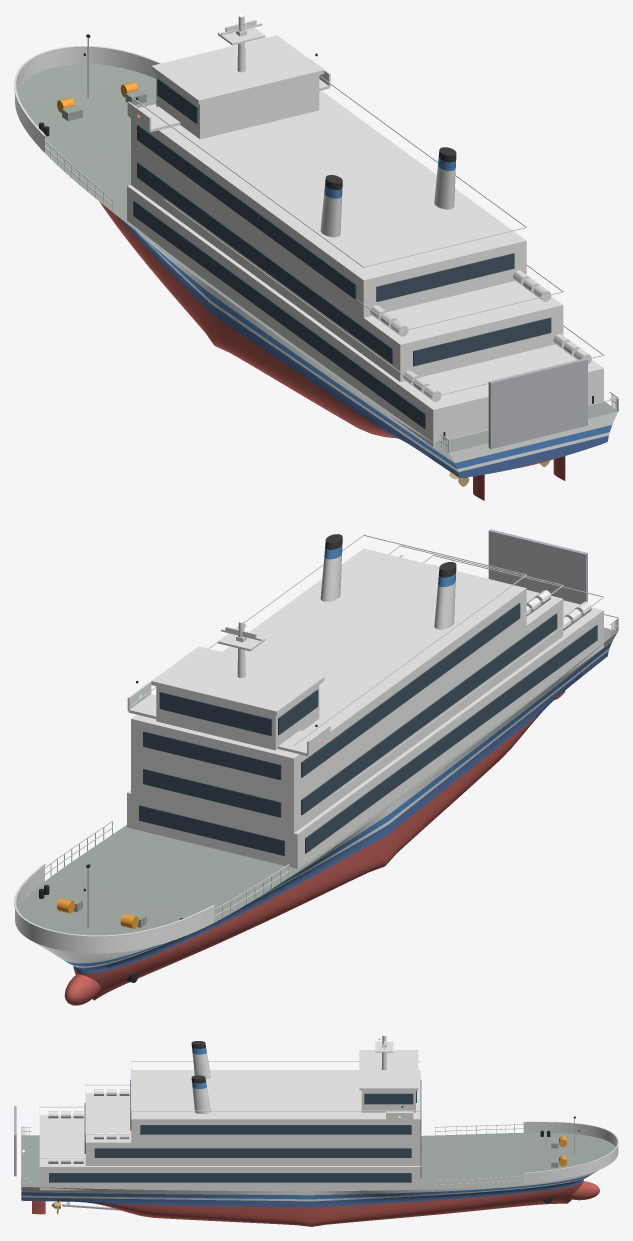
File: ferry_seto.glb
3 views of the same model, one above another, from view 1: azimuth 30°, elevation 25°; view 2: azimuth 150°, elevation 25°; view 3: azimuth 270°, elevation 25° (orthographic). The views are drawn at different scales.
Parts seen in each view (by area): view 1: superstructure, hull, deck_fittings; view 2: superstructure, hull, deck_fittings, hull_appendages; view 3: superstructure, hull, deck_fittings, hull_appendages.
Part boxes in pixels (<box>): superstructure: <box>83,15,604,449</box>; hull: <box>17,64,618,477</box>; deck_fittings: <box>14,46,618,452</box>; superstructure: <box>83,529,603,927</box>; hull: <box>18,627,617,1000</box>; deck_fittings: <box>14,614,618,953</box>; hull_appendages: <box>64,974,138,1005</box>; superstructure: <box>14,1035,579,1190</box>; hull: <box>21,1132,615,1226</box>; deck_fittings: <box>21,1121,618,1188</box>; hull_appendages: <box>62,1181,599,1210</box>.
Bounding box in the file's own units: 14.44 × 20.6 × 66.73.
